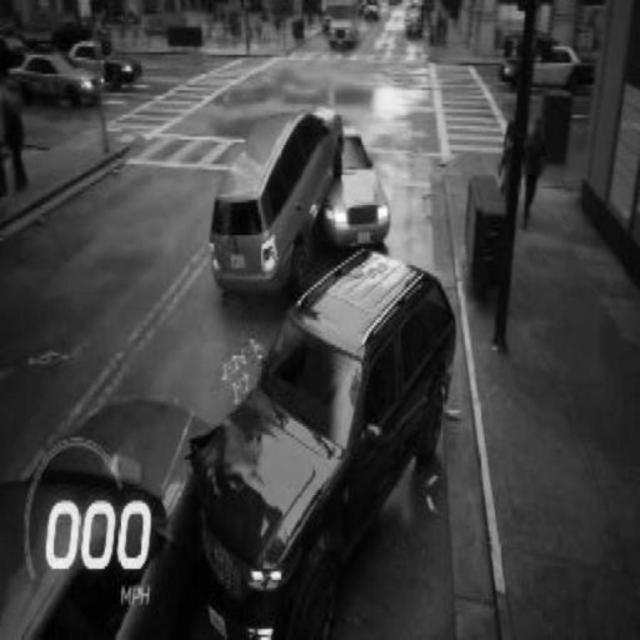accident: (0, 246, 452, 639), (207, 109, 391, 289)
person: (517, 114, 552, 232)
vehicle: (1, 49, 104, 105), (495, 40, 601, 92), (68, 38, 142, 92), (325, 1, 361, 53)
